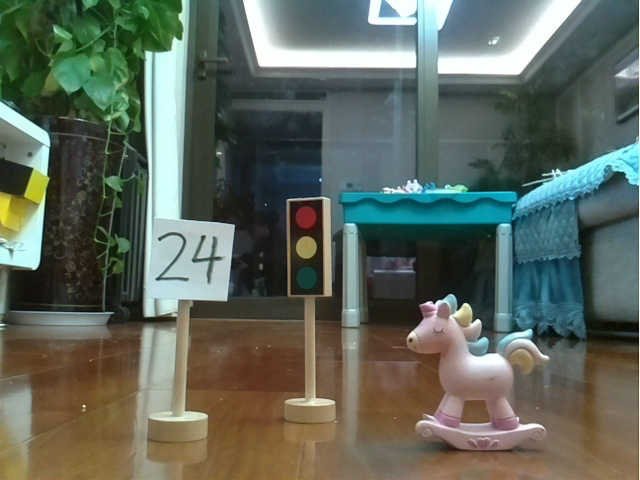Horse: (397, 287, 559, 456)
Red Traffic Light: (278, 190, 342, 431)
Speed Limit 24: (134, 209, 237, 445)
